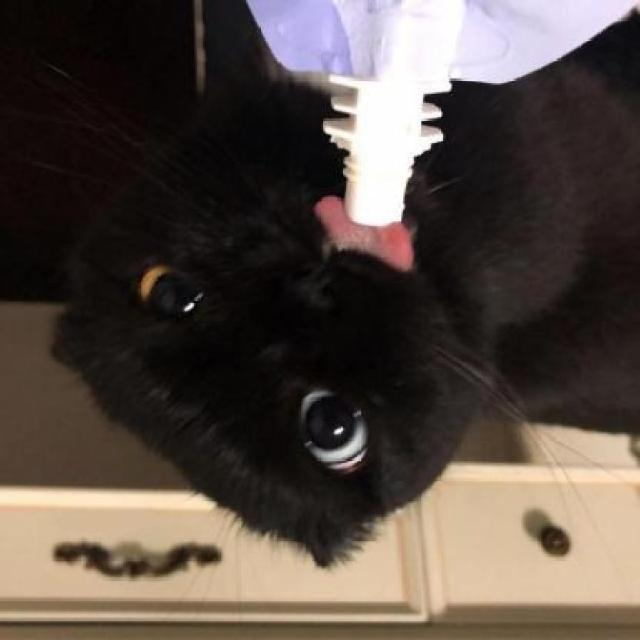cat: (49, 38, 640, 576)
